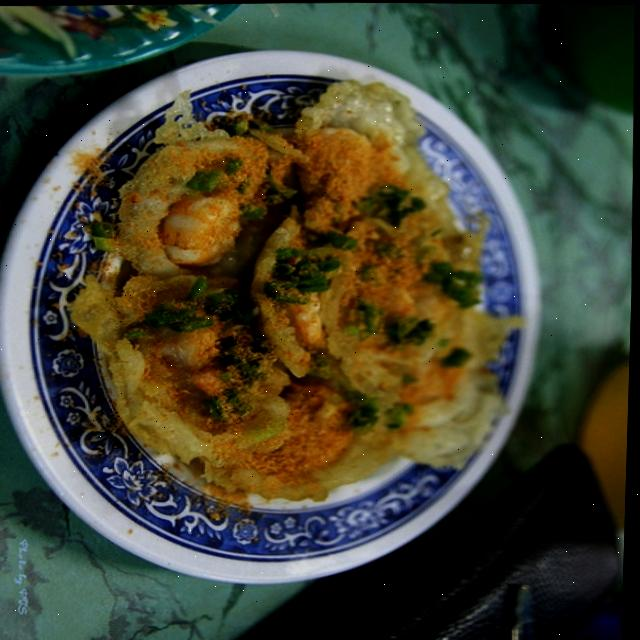炸货点心: (0, 26, 616, 604)
熟制海鲜: (0, 26, 616, 604)
